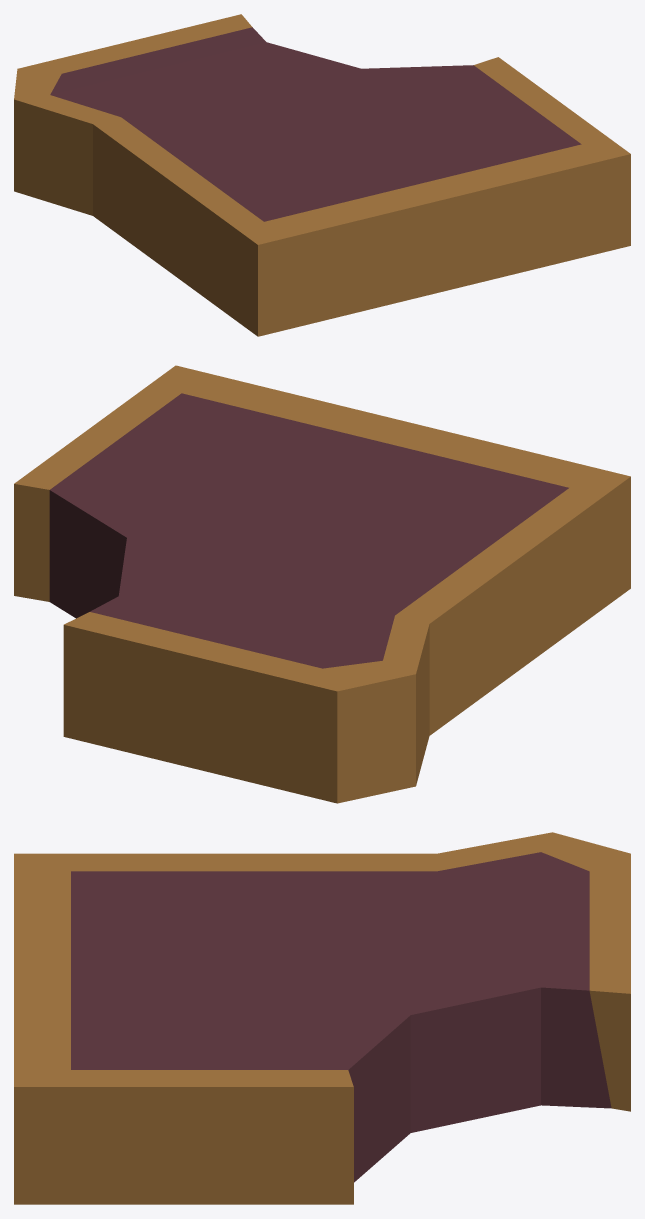
Rendered from food-toast-bite.glb.
The picture shows the model from 3 angles, top to bottom: view 1: azimuth 30°, elevation 25°; view 2: azimuth 150°, elevation 25°; view 3: azimuth 270°, elevation 25°; orthographic projection. The views are drawn at different scales.
Parts seen in each view (by area): view 1: toast-bite; view 2: toast-bite; view 3: toast-bite.
Boxes of the visible parts, x1=… form: toast-bite: x1=14, y1=14, x2=630, y2=336; toast-bite: x1=14, y1=365, x2=630, y2=803; toast-bite: x1=14, y1=832, x2=630, y2=1204.
Bounding box in the file's own units: 0.1224 × 0.0265 × 0.1254.
